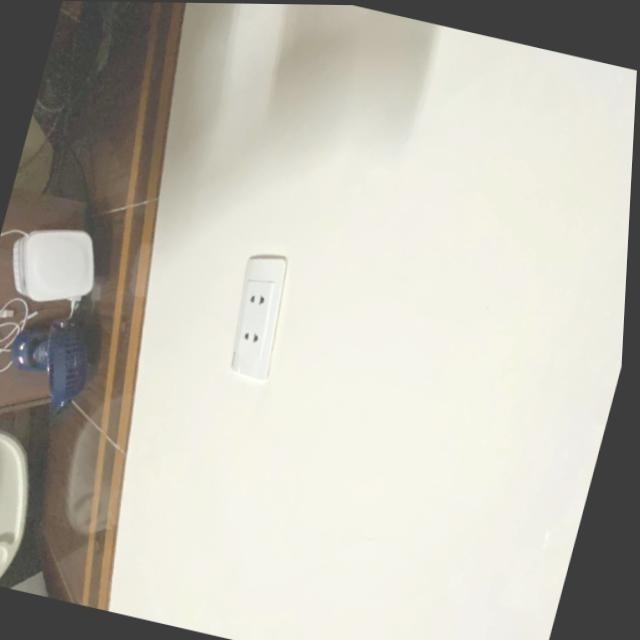outlet: (217, 248, 299, 383)
